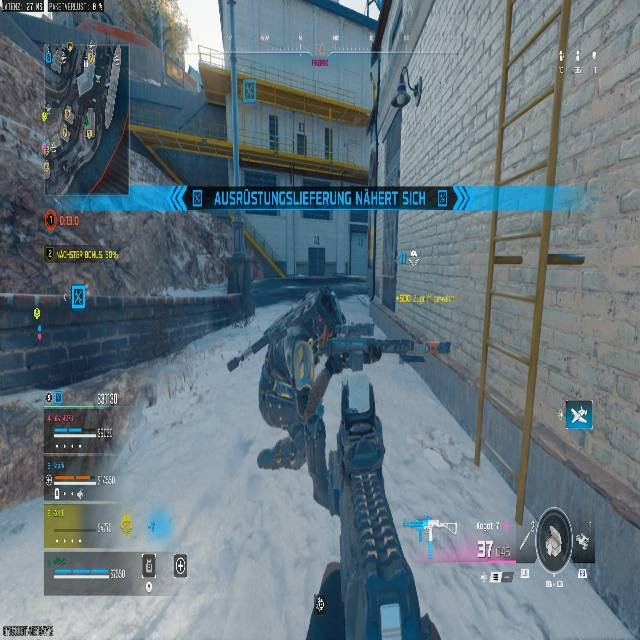head: (304, 288, 345, 339)
player: (256, 286, 387, 524)
